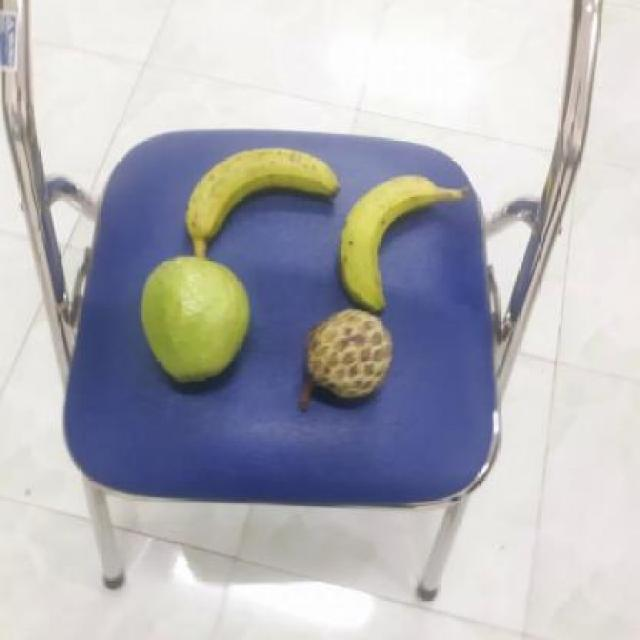banana: (179, 146, 336, 251), (328, 175, 447, 308)
guava: (136, 259, 250, 383)
sugar apple: (298, 310, 392, 402)
